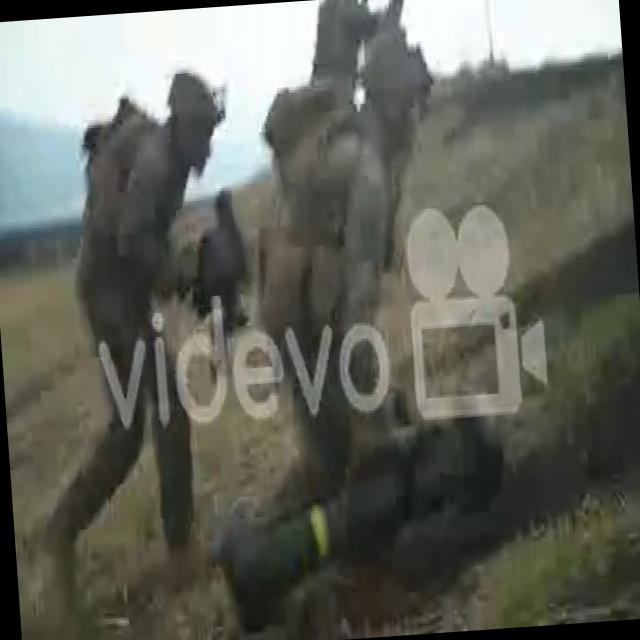rocket: (215, 409, 511, 640)
